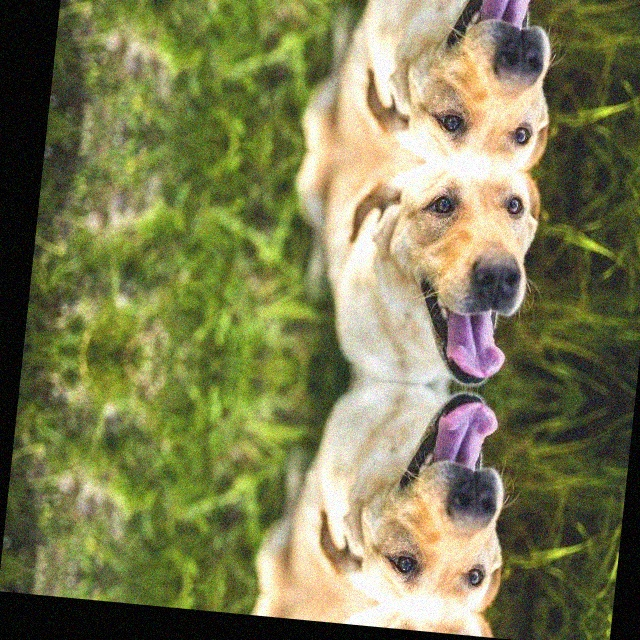dog: (333, 377, 543, 615), (356, 158, 566, 395), (380, 0, 590, 173), (330, 600, 520, 640)
